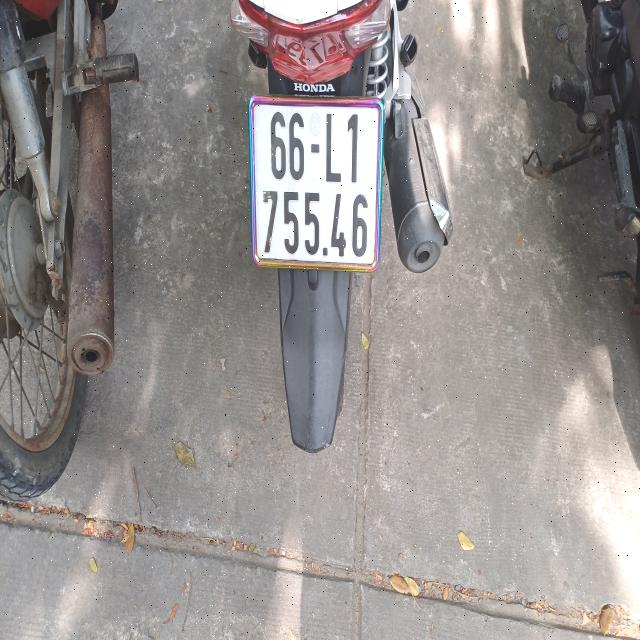1: (346, 113, 362, 183)
4: (329, 192, 347, 257)
5: (282, 189, 300, 254), (304, 189, 321, 254)
6: (270, 110, 286, 181), (288, 112, 304, 177), (351, 193, 367, 257)
7: (262, 189, 280, 260)
L: (326, 111, 341, 184)
